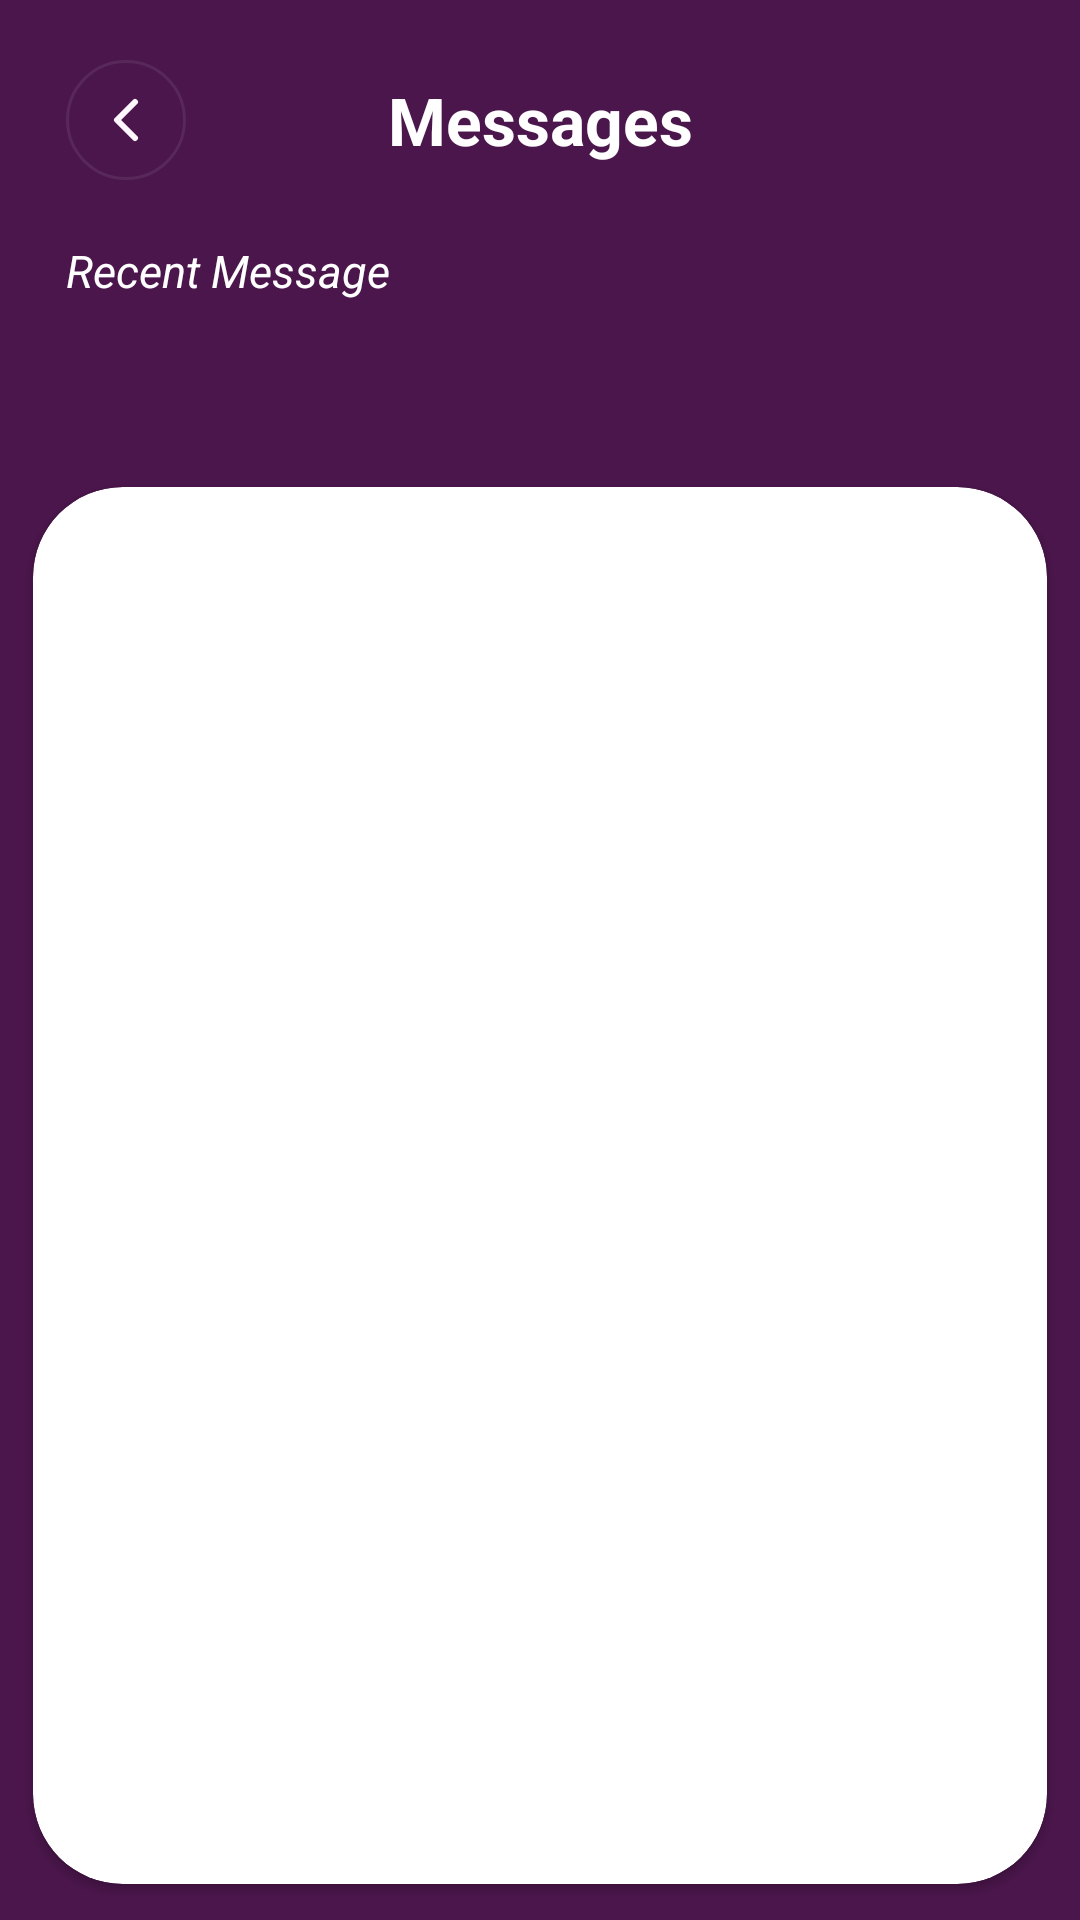

Where icons sit on this 1080x1920 app screen, as (x1, y1, x2, y2):
back: (114, 99, 138, 141)
